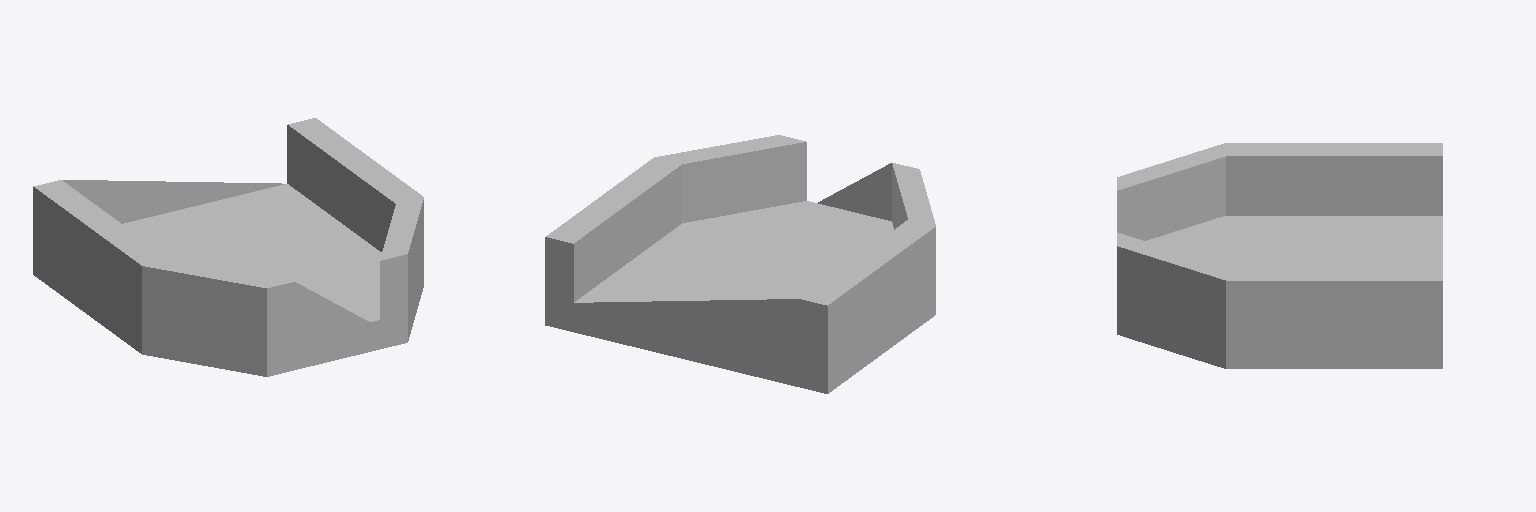
File: ThickThickThin_.obj
The picture shows the model from 3 angles: view 1: azimuth 30°, elevation 25°; view 2: azimuth 150°, elevation 25°; view 3: azimuth 270°, elevation 25°; orthographic projection.
Visible parts, largest first — view 1: ThickThickThin_; view 2: ThickThickThin_; view 3: ThickThickThin_.
Boxes of the visible parts, x1,y1,x2,y2 form: ThickThickThin_: [33, 118, 423, 376]; ThickThickThin_: [545, 135, 935, 393]; ThickThickThin_: [1117, 143, 1442, 368].
Bounding box in the file's own units: 2 × 0.6 × 2.